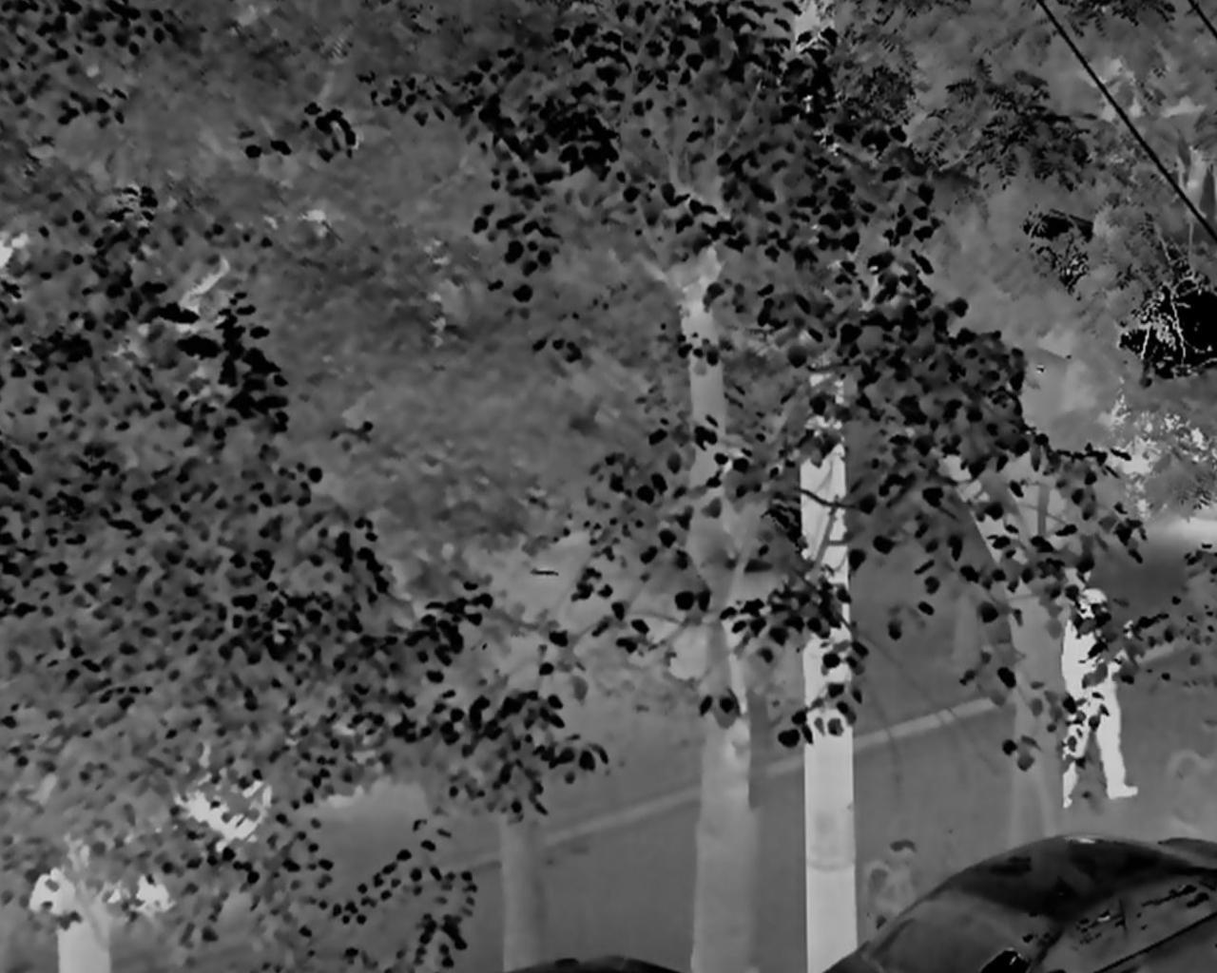person: (1060, 589, 1143, 794)
